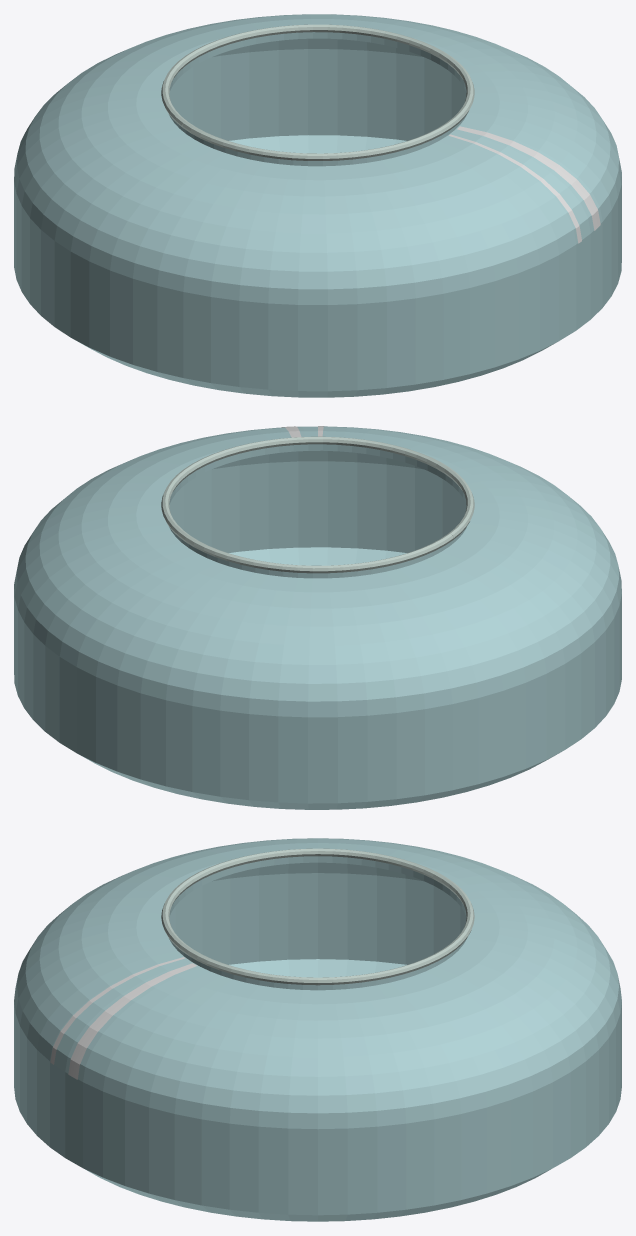
File: goo_jar_glass_3_top.fbx
The picture shows the model from 3 angles, top to bottom: view 1: azimuth 30°, elevation 25°; view 2: azimuth 150°, elevation 25°; view 3: azimuth 270°, elevation 25°; orthographic projection.
Visible parts, largest first — view 1: goo_jar_glass_3_top; view 2: goo_jar_glass_3_top; view 3: goo_jar_glass_3_top.
Boxes of the visible parts, x1,y1,x2,y2 form: goo_jar_glass_3_top: [14, 14, 621, 397]; goo_jar_glass_3_top: [14, 426, 621, 809]; goo_jar_glass_3_top: [14, 838, 621, 1221].
Size of the model in its own units: 48 by 16.52 by 48.
